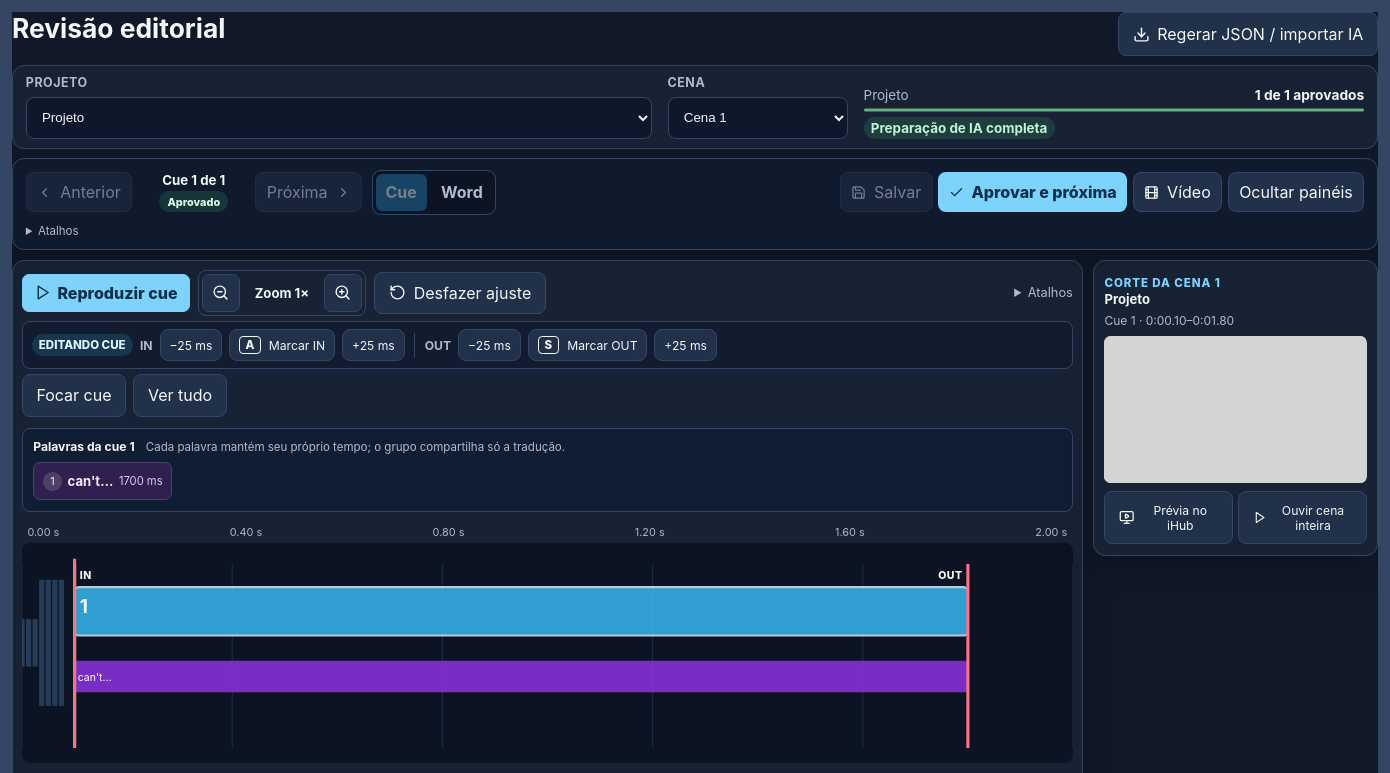
EditorialPage › offers re-export and AI response import even after editorial approval
Step 1. Click the button "Regerar JSON / importar IA" → {"x": 1248, "y": 34}, box [1118,12,1378,56]
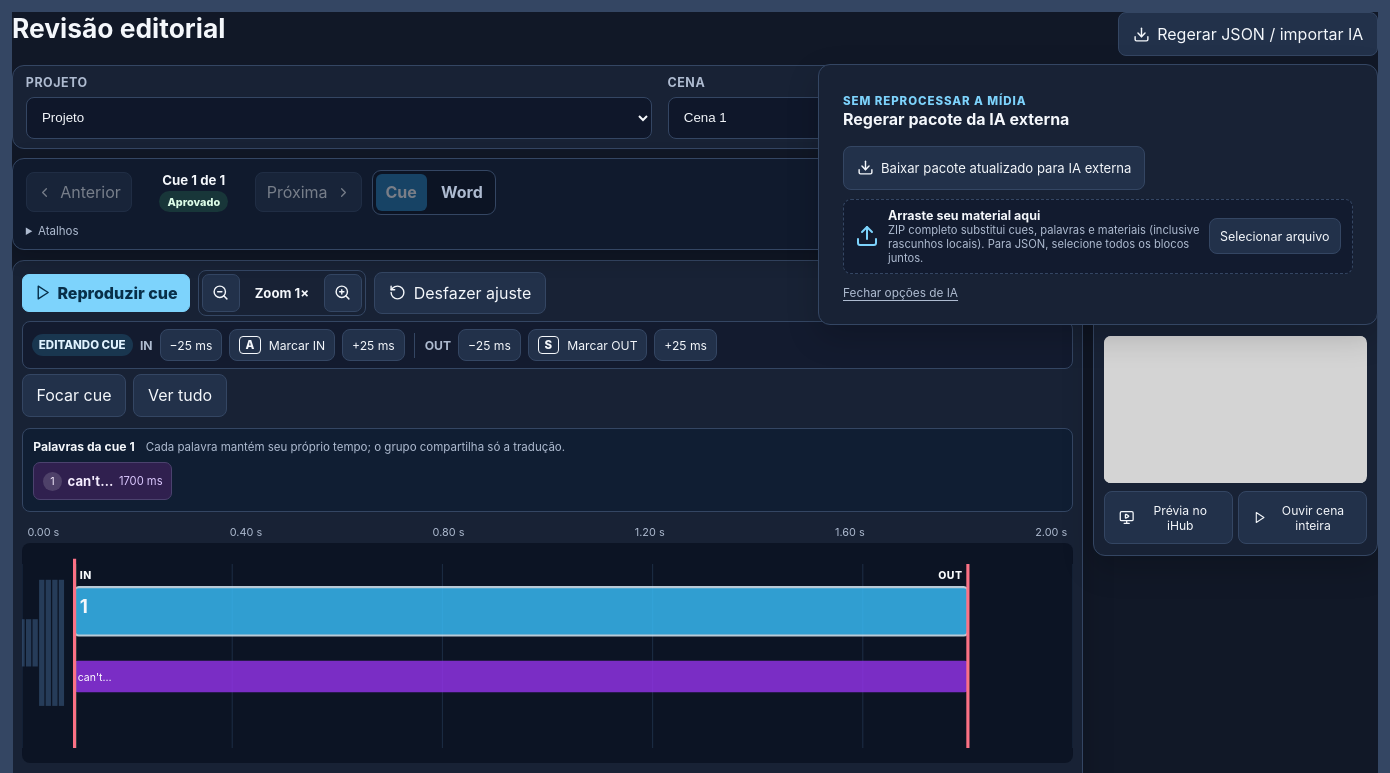
Result: the element named "Importar retorno editorial" is shown at [843,199,1353,274]
